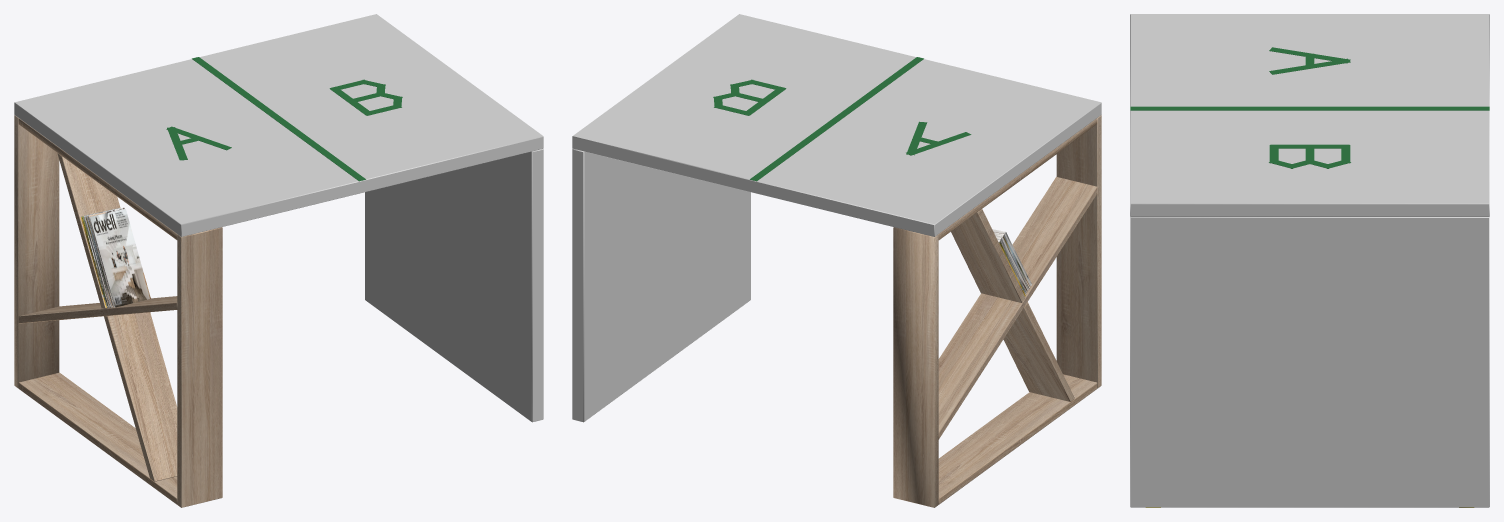
The model's file is table_vla.gltf.
3 renders of one model, left to right at view 1: azimuth 30°, elevation 25°; view 2: azimuth 150°, elevation 25°; view 3: azimuth 270°, elevation 25°, orthographic. The views are drawn at different scales.
Parts seen in each view (by area): view 1: Material2.014, Material2.013, Material2.001, Material2.002, Material2.006, Material2, Material2.020, Material2.003, Material2.005, Table_Divider_Tape, Material2.004; view 2: Material2.014, Material2.013, Material2.002, Material2.005, Material2.001, Material2, Material2.003, Material2.006, Table_Divider_Tape, Material2.004; view 3: Material2.013, Material2.014, Table_Divider_Tape.
Boxes of the visible parts, x1,y1,x2,y2 form: Material2.014: [14, 14, 543, 236]; Material2.013: [365, 149, 543, 422]; Material2.001: [177, 227, 222, 507]; Material2.002: [14, 115, 59, 388]; Material2.006: [104, 312, 177, 481]; Material2: [18, 372, 177, 504]; Material2.020: [89, 209, 150, 307]; Material2.003: [57, 153, 120, 308]; Material2.005: [18, 296, 177, 323]; Table_Divider_Tape: [192, 57, 365, 181]; Material2.004: [18, 118, 177, 239]; Material2.014: [572, 14, 1101, 236]; Material2.013: [572, 149, 750, 422]; Material2.002: [893, 227, 938, 507]; Material2.005: [938, 177, 1097, 439]; Material2.001: [1056, 115, 1101, 388]; Material2: [938, 374, 1097, 504]; Material2.003: [951, 209, 1025, 302]; Material2.006: [1003, 302, 1074, 401]; Table_Divider_Tape: [750, 57, 923, 181]; Material2.004: [938, 118, 1097, 239]; Material2.013: [1130, 217, 1489, 507]; Material2.014: [1130, 14, 1489, 216]; Table_Divider_Tape: [1130, 106, 1489, 110].
Size of the model in its own units: 1 by 0.7508 by 0.8.
